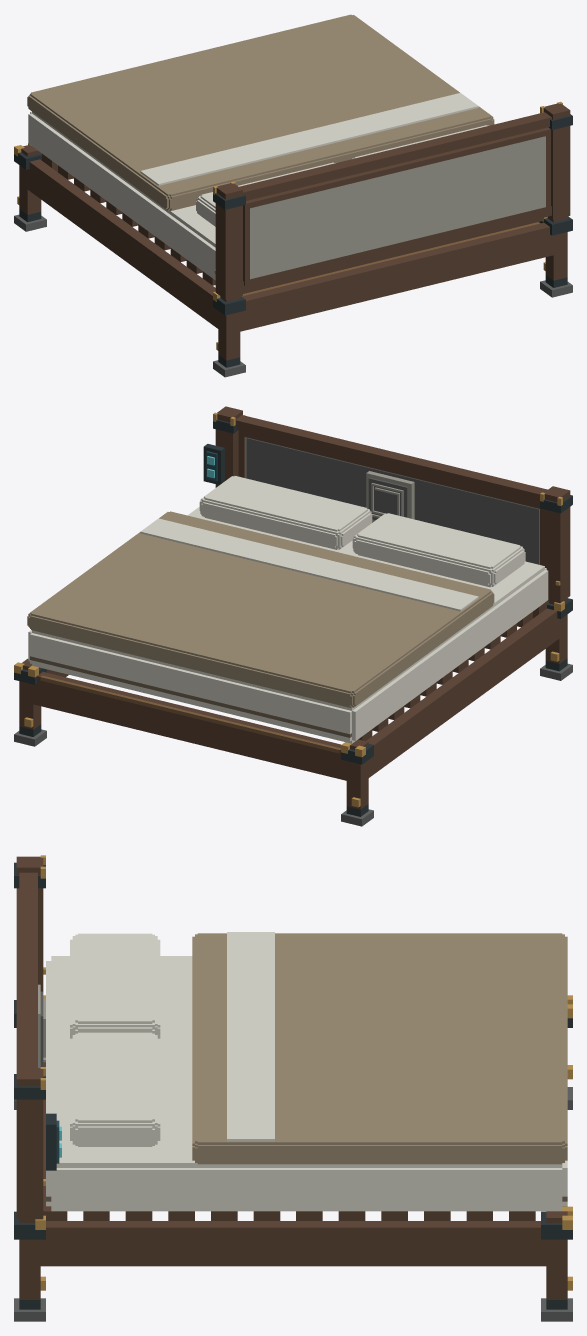
3 renders of one model, top to bottom at view 1: azimuth 30°, elevation 25°; view 2: azimuth 150°, elevation 25°; view 3: azimuth 270°, elevation 25°, orthographic. The views are drawn at different scales.
Visible parts, largest first — view 1: 被褥及枕头组合, 床头靠板, 住宅床架, 床垫基础块; view 2: 被褥及枕头组合, 住宅床架, 床头靠板, 床垫基础块; view 3: 被褥及枕头组合, 床垫基础块, 住宅床架, 床头靠板.
Boxes of the visible parts, <box> form: 被褥及枕头组合: <box>27,14,494,226</box>; 床头靠板: <box>213,101,572,299</box>; 住宅床架: <box>14,143,572,377</box>; 床垫基础块: <box>28,111,215,280</box>; 被褥及枕头组合: <box>27,476,525,707</box>; 住宅床架: <box>14,598,572,826</box>; 床头靠板: <box>203,406,572,603</box>; 床垫基础块: <box>28,507,548,743</box>; 被褥及枕头组合: <box>70,932,567,1164</box>; 床垫基础块: <box>46,956,567,1211</box>; 住宅床架: <box>14,995,572,1321</box>; 床头靠板: <box>14,855,61,1219</box>.
Bounding box in the file's own units: 2.03 × 1 × 2.1.
11 materials, 11 textured.
